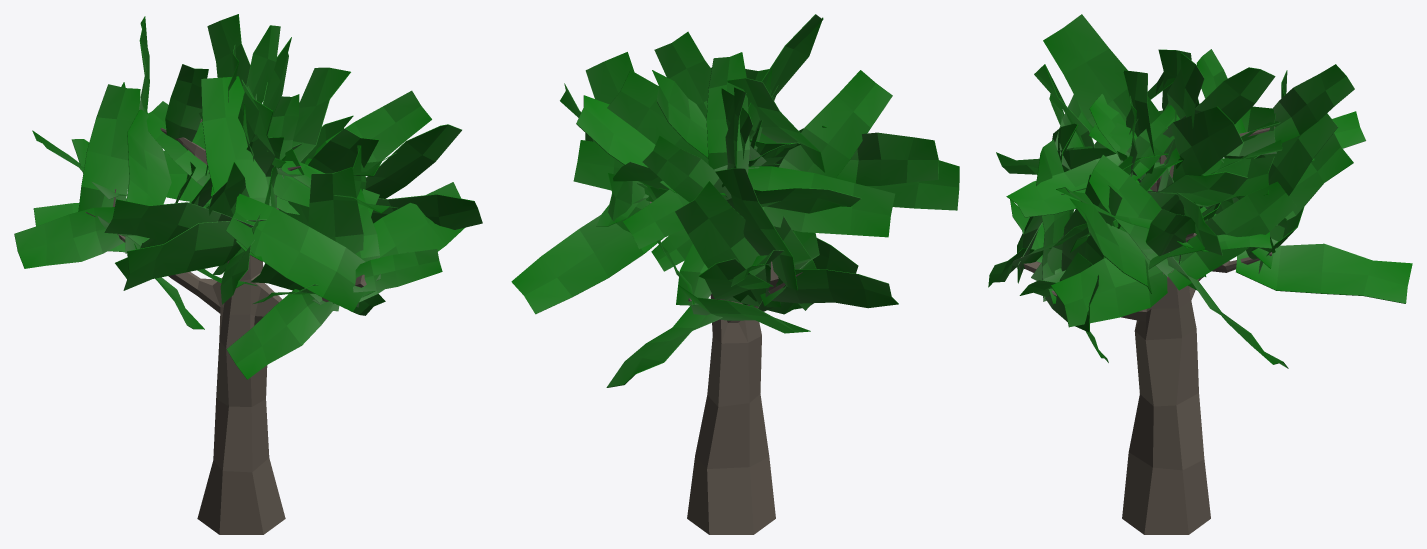
Rendered from Arvore04SemLOD.fbx.
The picture shows the model from 3 angles, left to right: view 1: azimuth 30°, elevation 25°; view 2: azimuth 150°, elevation 25°; view 3: azimuth 270°, elevation 25°; orthographic projection.
Visible parts, largest first — view 1: Arvore01; view 2: Arvore01; view 3: Arvore01.
Part boxes in pixels (box(x1,y1,x2,y2)): Arvore01: box(14, 14, 482, 534); Arvore01: box(511, 14, 959, 534); Arvore01: box(988, 14, 1412, 534).
Bounding box in the file's own units: 642 × 765 × 608.
